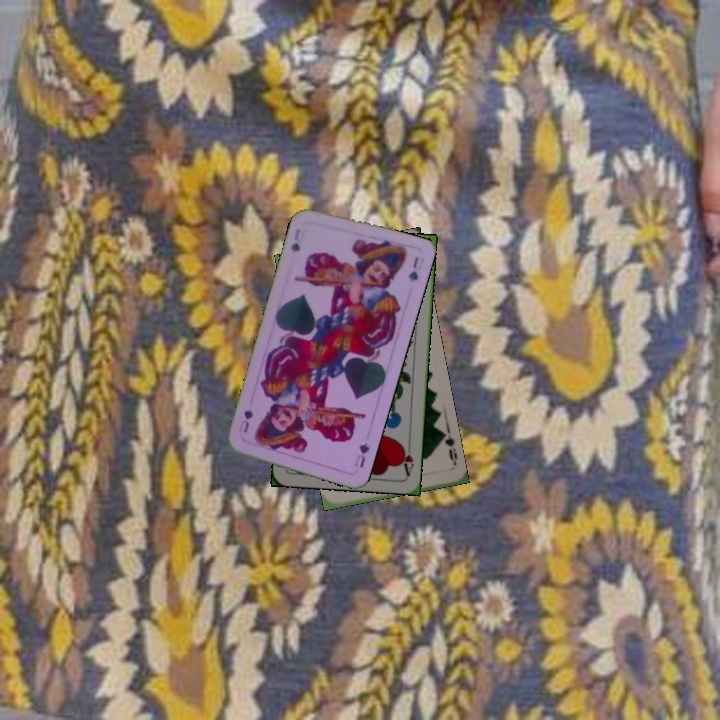G9: (437, 428, 460, 468)
GU: (350, 439, 372, 470), (286, 225, 306, 256)
HA: (397, 437, 416, 478)
